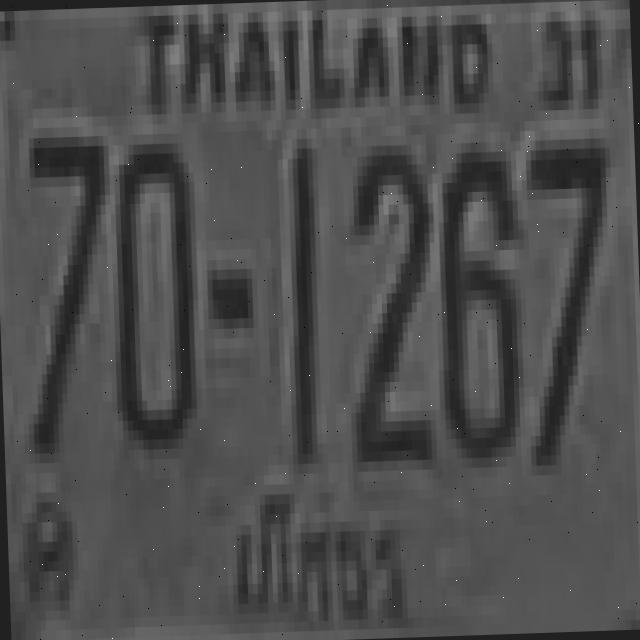0: (105, 132, 195, 440)
1: (282, 143, 318, 459), (284, 143, 320, 459)
2: (344, 139, 434, 457)
6: (431, 140, 521, 458)
7: (522, 132, 613, 460), (18, 126, 109, 453)
Yasothon: (227, 489, 414, 632)
